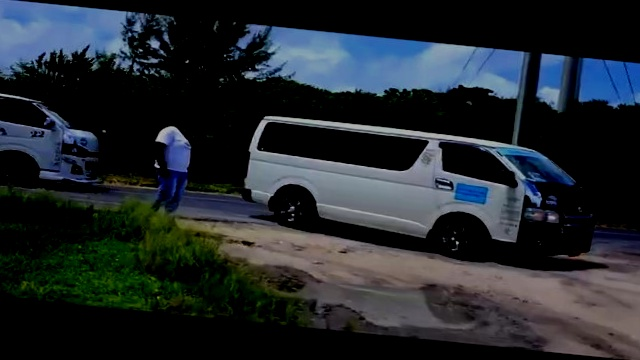van: (242, 110, 611, 269)
